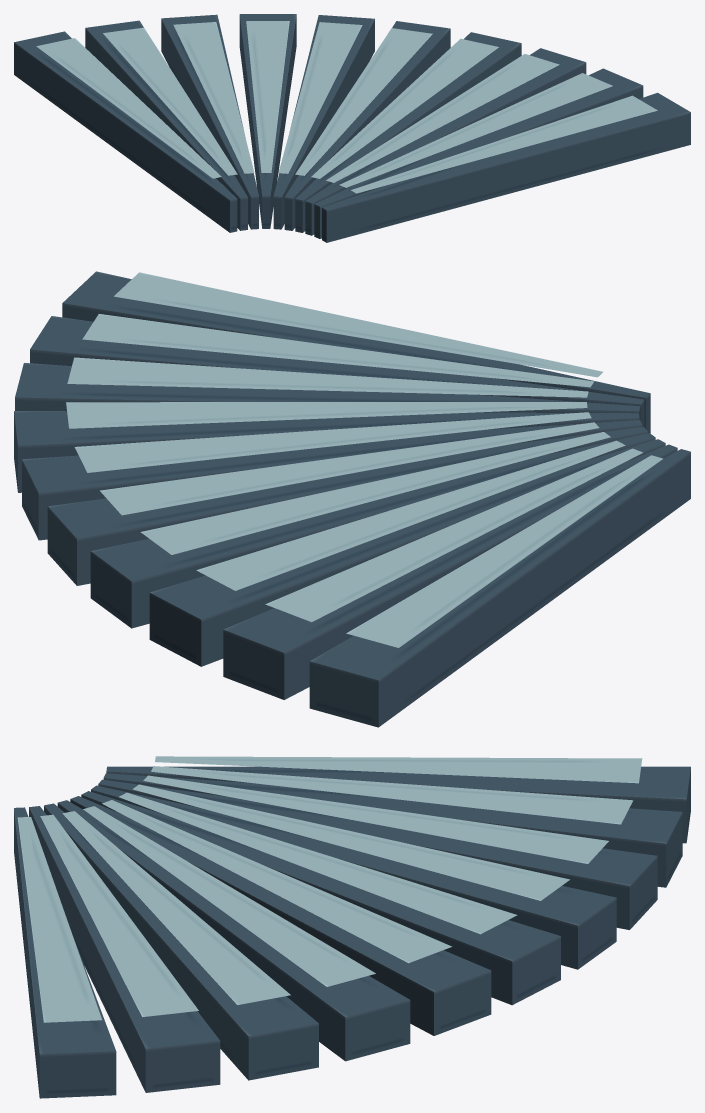
File: sc_tread_curve_left_0.obj
3 views of the same model, one above another, from view 1: azimuth 30°, elevation 25°; view 2: azimuth 150°, elevation 25°; view 3: azimuth 270°, elevation 25° (orthographic). The views are drawn at different scales.
Size of the model in its own units: 17.48 by 1.56 by 17.39.
Materials: 1 (1 with a texture image).
